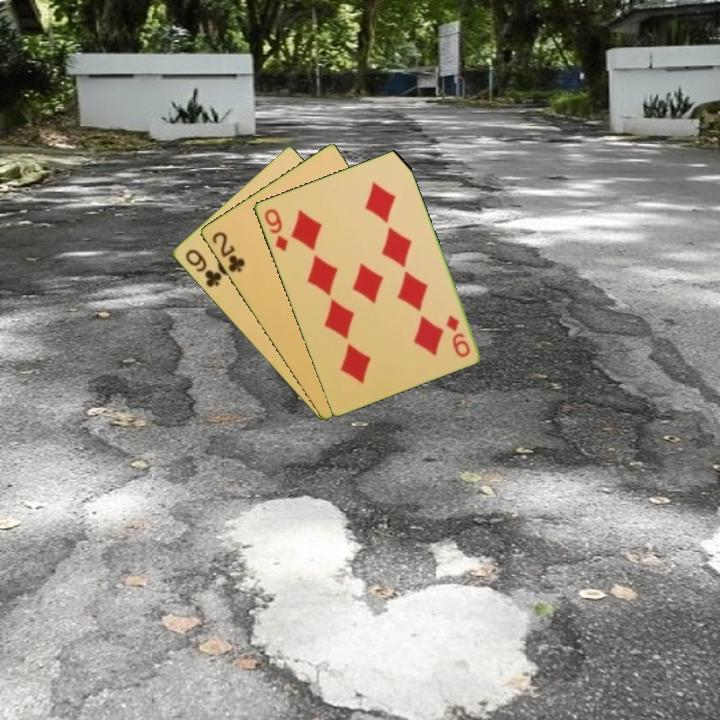2c: (208, 228, 248, 275)
9c: (181, 245, 224, 290)
9d: (260, 205, 291, 254), (442, 311, 473, 360)
